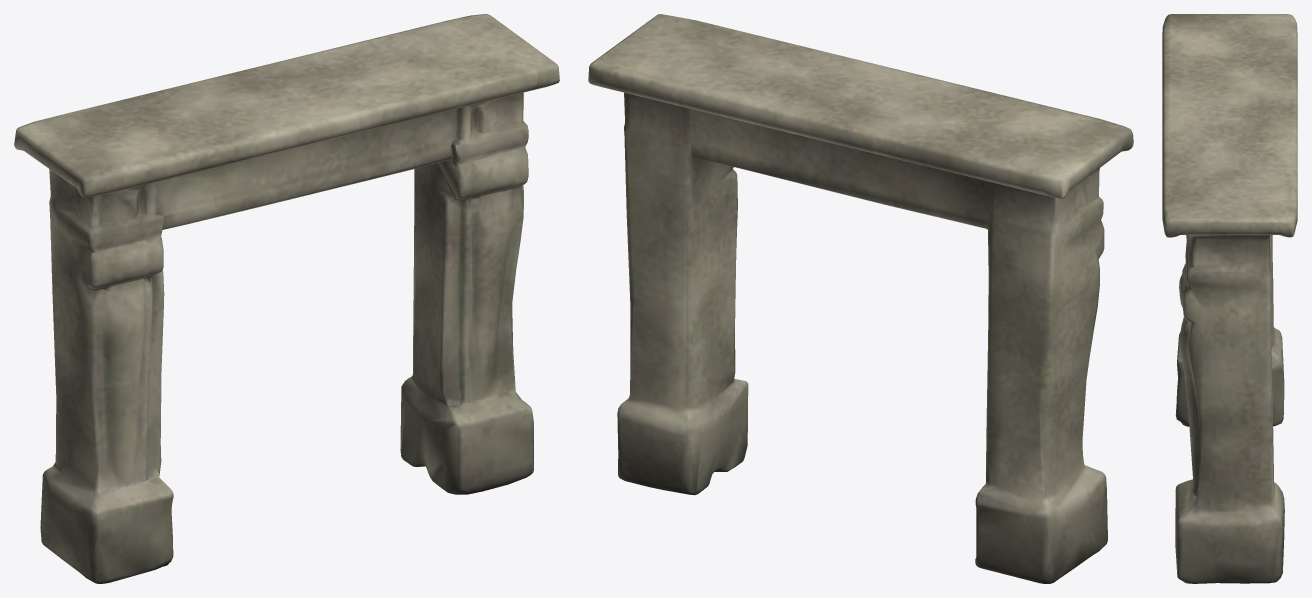
File: chipped-limestone-fireplace-v001.glb
The picture shows the model from 3 angles, left to right: view 1: azimuth 30°, elevation 25°; view 2: azimuth 150°, elevation 25°; view 3: azimuth 270°, elevation 25°; orthographic projection. The views are drawn at different scales.
Parts seen in each view (by area): view 1: chipped-limestone-fireplace; view 2: chipped-limestone-fireplace; view 3: chipped-limestone-fireplace.
Part boxes in pixels (<box>): chipped-limestone-fireplace: <box>14,14,559,583</box>; chipped-limestone-fireplace: <box>588,14,1133,583</box>; chipped-limestone-fireplace: <box>1162,14,1297,583</box>.
Bounding box in the file's own units: 2.4 × 2.01 × 0.6607.
Materials: 1 (1 with a texture image).
